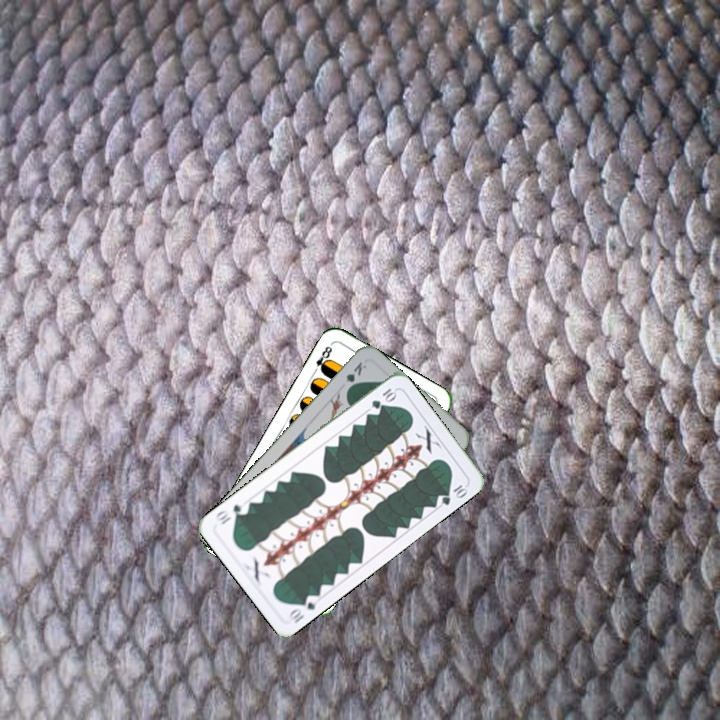E8: (309, 340, 335, 377)
G10: (285, 590, 322, 626), (367, 384, 399, 412)
GK: (341, 358, 370, 394)
